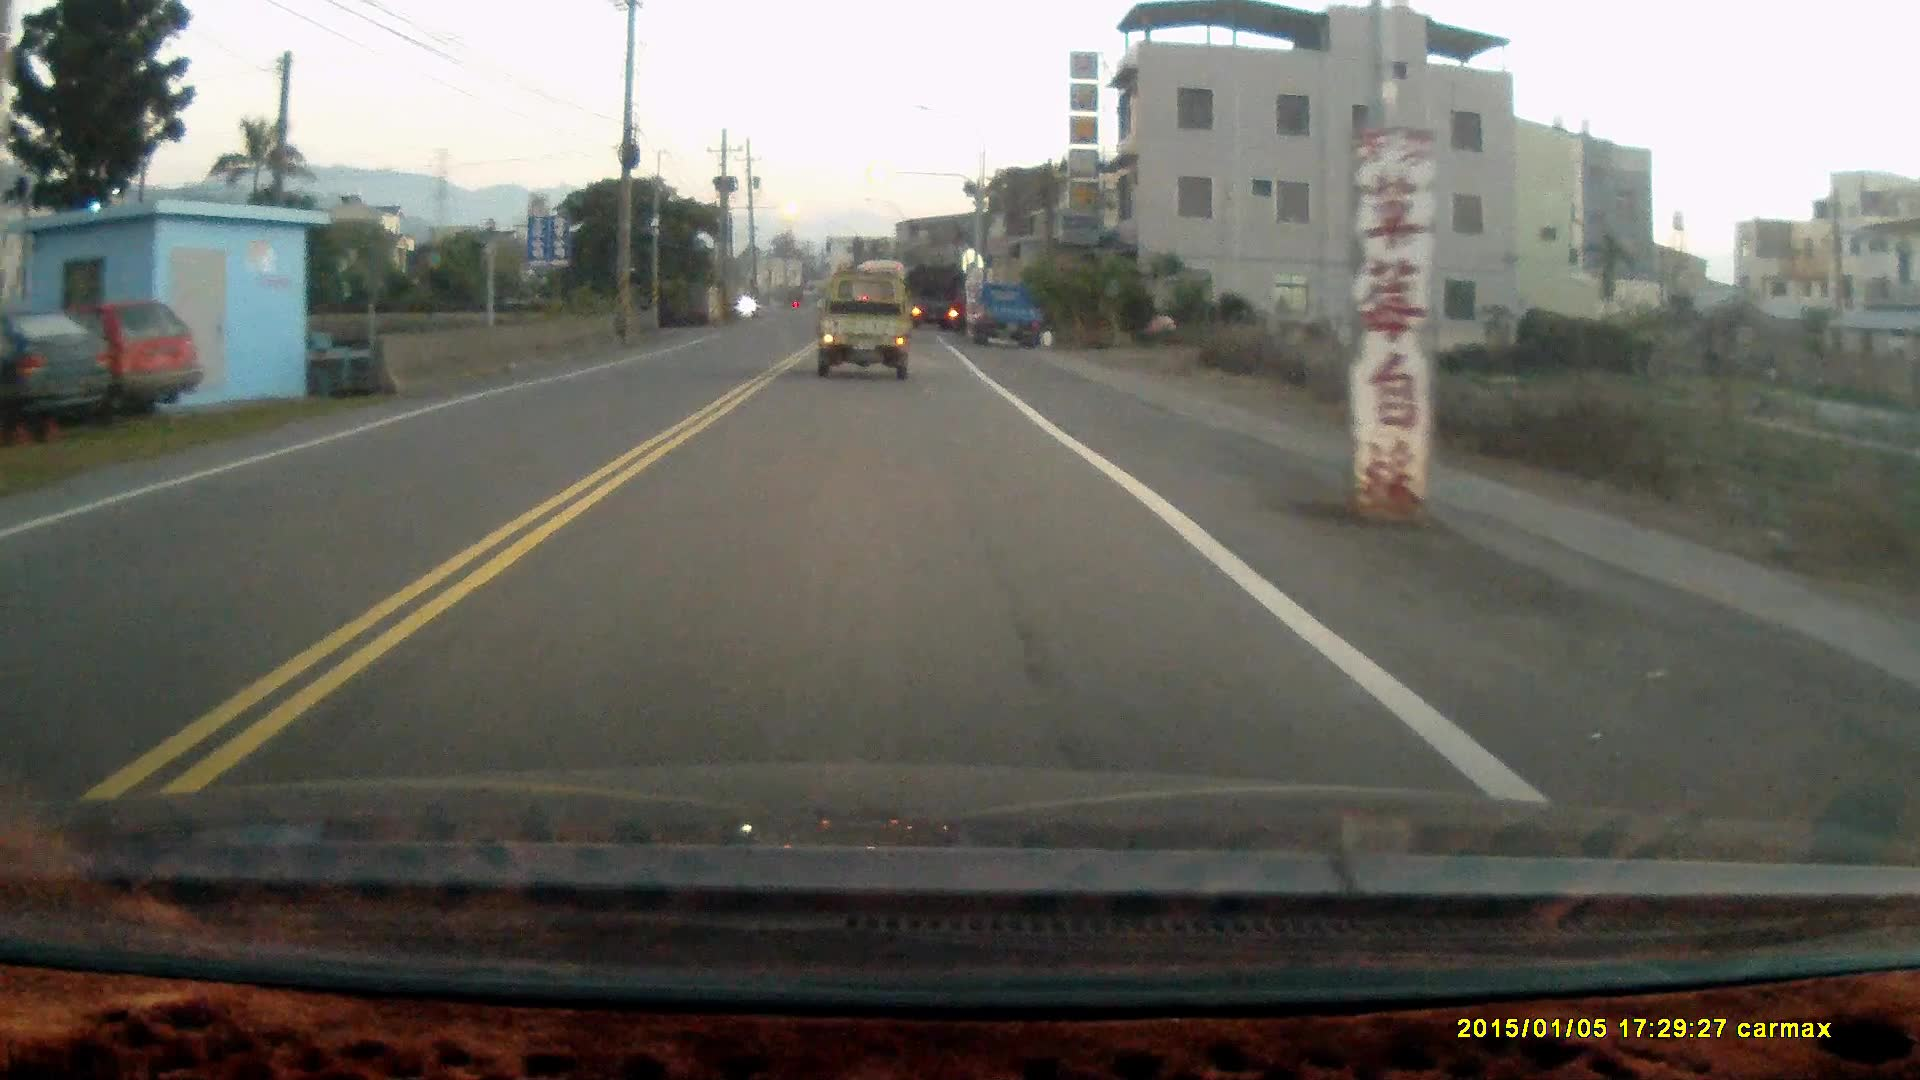vehicle: (12, 301, 203, 421), (1, 303, 112, 436), (815, 276, 916, 378), (967, 287, 1051, 353), (905, 262, 968, 328)
